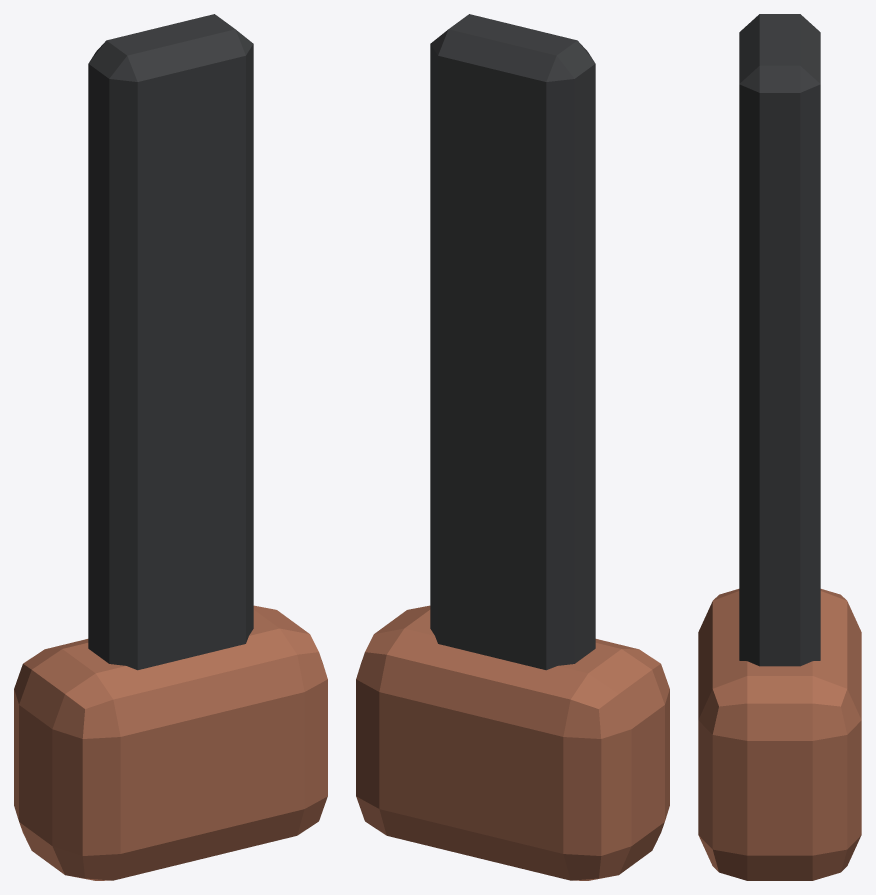
The model's file is tilt_top_standing_table_tilt_release.glb.
The picture shows the model from 3 angles, left to right: view 1: azimuth 30°, elevation 25°; view 2: azimuth 150°, elevation 25°; view 3: azimuth 270°, elevation 25°; orthographic projection. The views are drawn at different scales.
Parts seen in each view (by area): view 1: export_tmp; view 2: export_tmp; view 3: export_tmp.
Part boxes in pixels (bbox=[...]): export_tmp: bbox=[14, 14, 327, 880]; export_tmp: bbox=[356, 14, 669, 880]; export_tmp: bbox=[698, 14, 861, 880].
Bounding box in the file's own units: 0.03 × 0.086 × 0.016.
